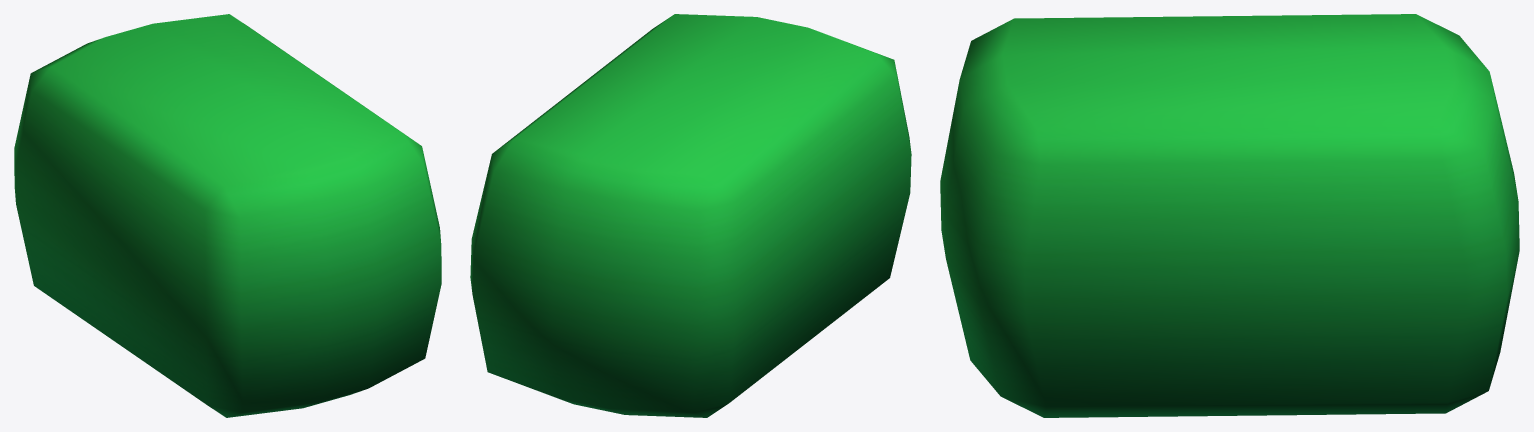
Rendered from Bush_1_5.obj.
3 views of the same model, side by side, from view 1: azimuth 30°, elevation 25°; view 2: azimuth 150°, elevation 25°; view 3: azimuth 270°, elevation 25° (orthographic). The views are drawn at different scales.
Visible parts, largest first — view 1: Bush_1_5; view 2: Bush_1_5; view 3: Bush_1_5.
Part boxes in pixels (bbox=[...]): Bush_1_5: bbox=[14, 14, 441, 417]; Bush_1_5: bbox=[470, 14, 911, 417]; Bush_1_5: bbox=[940, 14, 1519, 417].
Bounding box in the file's own units: 0.799 × 0.728 × 1.29.
